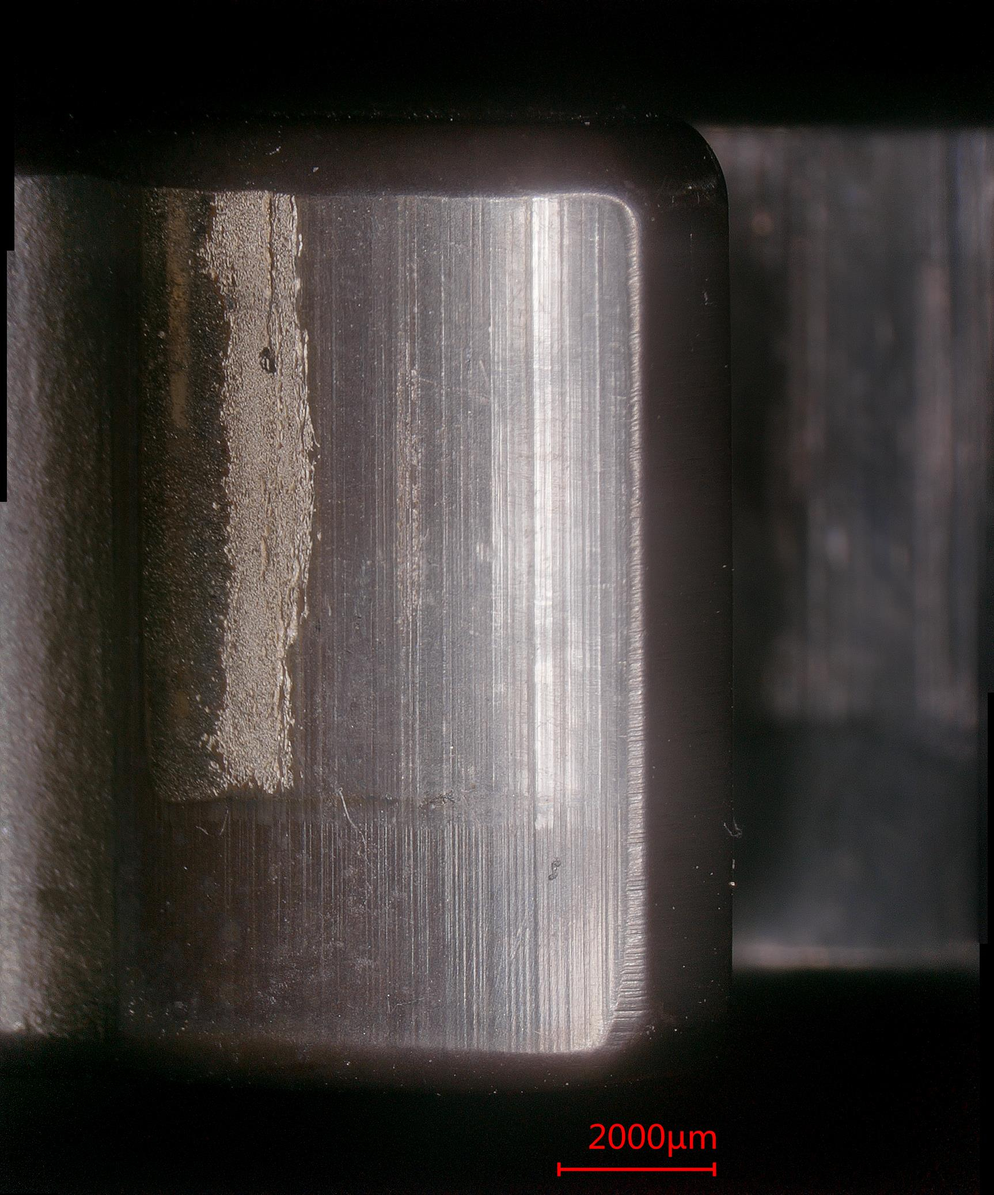Abrasion: (128, 195, 635, 1041)
